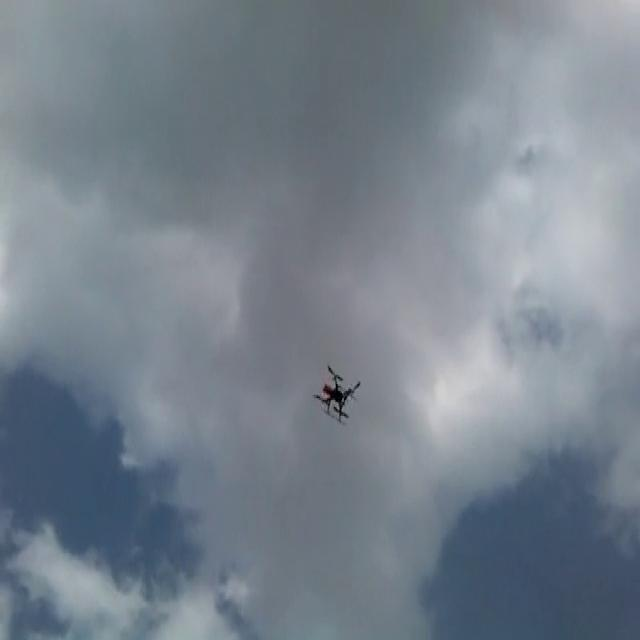drone: (311, 361, 362, 427)
